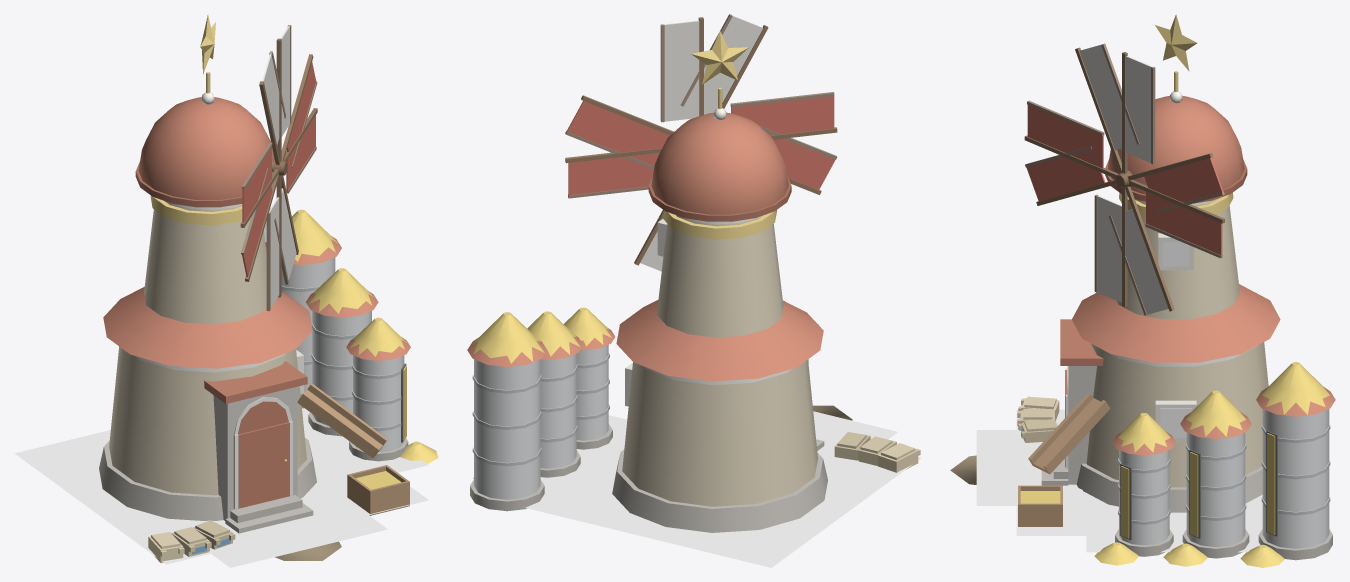
File: feed_mill_4.glb
The picture shows the model from 3 angles, left to right: view 1: azimuth 30°, elevation 25°; view 2: azimuth 150°, elevation 25°; view 3: azimuth 270°, elevation 25°; orthographic projection.
Parts seen in each view (by area): view 1: body6, feed_mill_4, spin_55_0, body5, body4, body; view 2: body6, feed_mill_4, spin_55_0, body5, body4, body; view 3: body6, spin_55_0, body5, feed_mill_4, body4, body, body3, body2.
Part boxes in pixels (x1,y1,x2,y2): body6: (99, 14, 409, 563); feed_mill_4: (15, 408, 428, 567); spin_55_0: (240, 25, 317, 311); body5: (241, 51, 317, 284); body4: (266, 209, 438, 463); body: (265, 236, 410, 442); body6: (470, 31, 920, 532); feed_mill_4: (525, 411, 921, 567); spin_55_0: (565, 17, 837, 198); body5: (565, 14, 837, 271); body4: (470, 307, 611, 478); body: (467, 328, 615, 366); body6: (950, 14, 1332, 560); spin_55_0: (1024, 52, 1224, 307); body5: (1025, 43, 1224, 315); feed_mill_4: (976, 409, 1262, 552); body4: (1094, 362, 1329, 567); body: (1112, 386, 1335, 539); body3: (1121, 468, 1275, 537); body2: (1121, 501, 1275, 538).
Bounding box in the file's own units: 2.71 × 3.67 × 2.8.
